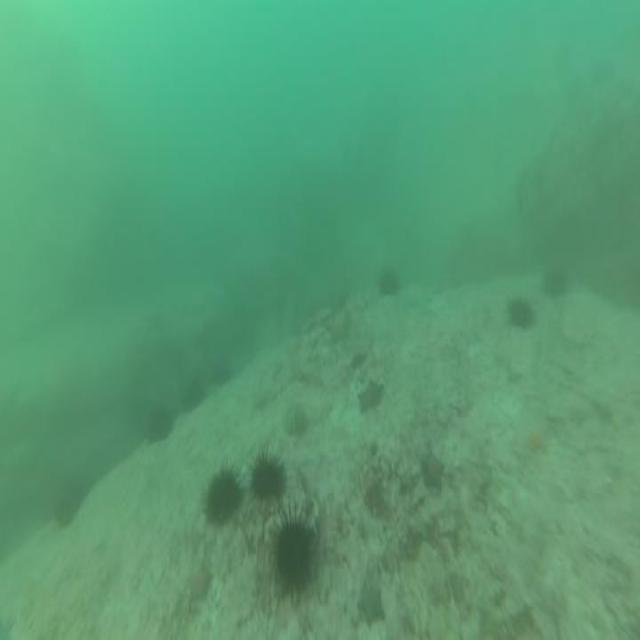echinus: (268, 502, 322, 610), (201, 457, 246, 532), (247, 441, 292, 507), (52, 477, 86, 531), (142, 401, 174, 449), (505, 291, 537, 335), (177, 376, 208, 419), (539, 261, 567, 300), (376, 264, 399, 300), (210, 354, 233, 389)
starfish: (354, 577, 388, 630), (418, 442, 446, 494), (354, 375, 386, 417)
